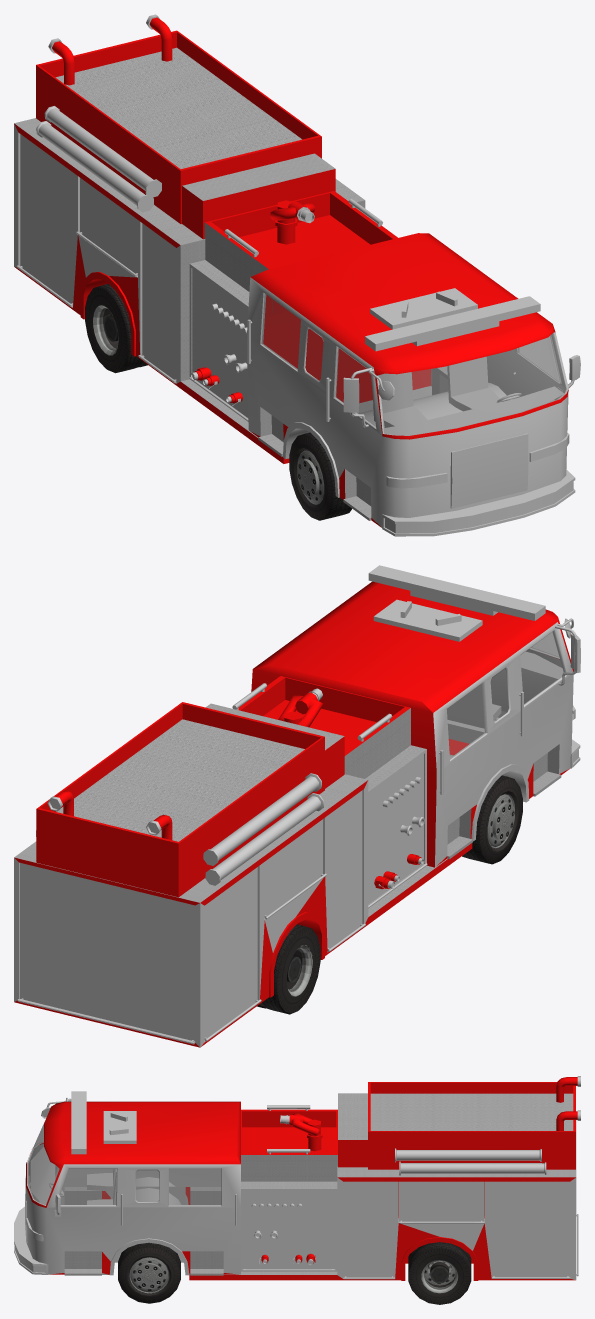
The model's file is dagonglvpaomoche_mo.fbx.
3 renders of one model, top to bottom at view 1: azimuth 30°, elevation 25°; view 2: azimuth 150°, elevation 25°; view 3: azimuth 270°, elevation 25°, orthographic. The views are drawn at different scales.
Parts seen in each view (by area): view 1: Dagonglvxiaofangche, Object01, Object02, Object03; view 2: Dagonglvxiaofangche, Object02, Object01, Object03; view 3: Dagonglvxiaofangche, Object02, Object01, Object03, Object04.
Part boxes in pixels (bbox=[...]): Dagonglvxiaofangche: bbox=[14, 14, 580, 536]; Object01: bbox=[261, 294, 566, 435]; Object02: bbox=[85, 284, 351, 520]; Object03: bbox=[269, 201, 315, 223]; Dagonglvxiaofangche: bbox=[14, 565, 580, 1047]; Object02: bbox=[257, 775, 522, 1014]; Object01: bbox=[447, 632, 563, 759]; Object03: bbox=[278, 688, 322, 727]; Dagonglvxiaofangche: bbox=[14, 1076, 580, 1280]; Object02: bbox=[118, 1242, 471, 1304]; Object01: bbox=[27, 1120, 221, 1205]; Object03: bbox=[280, 1113, 319, 1135]; Object04: bbox=[307, 1119, 322, 1151].
Bounding box in the file's own units: 2.45 × 7.3 × 2.53.
